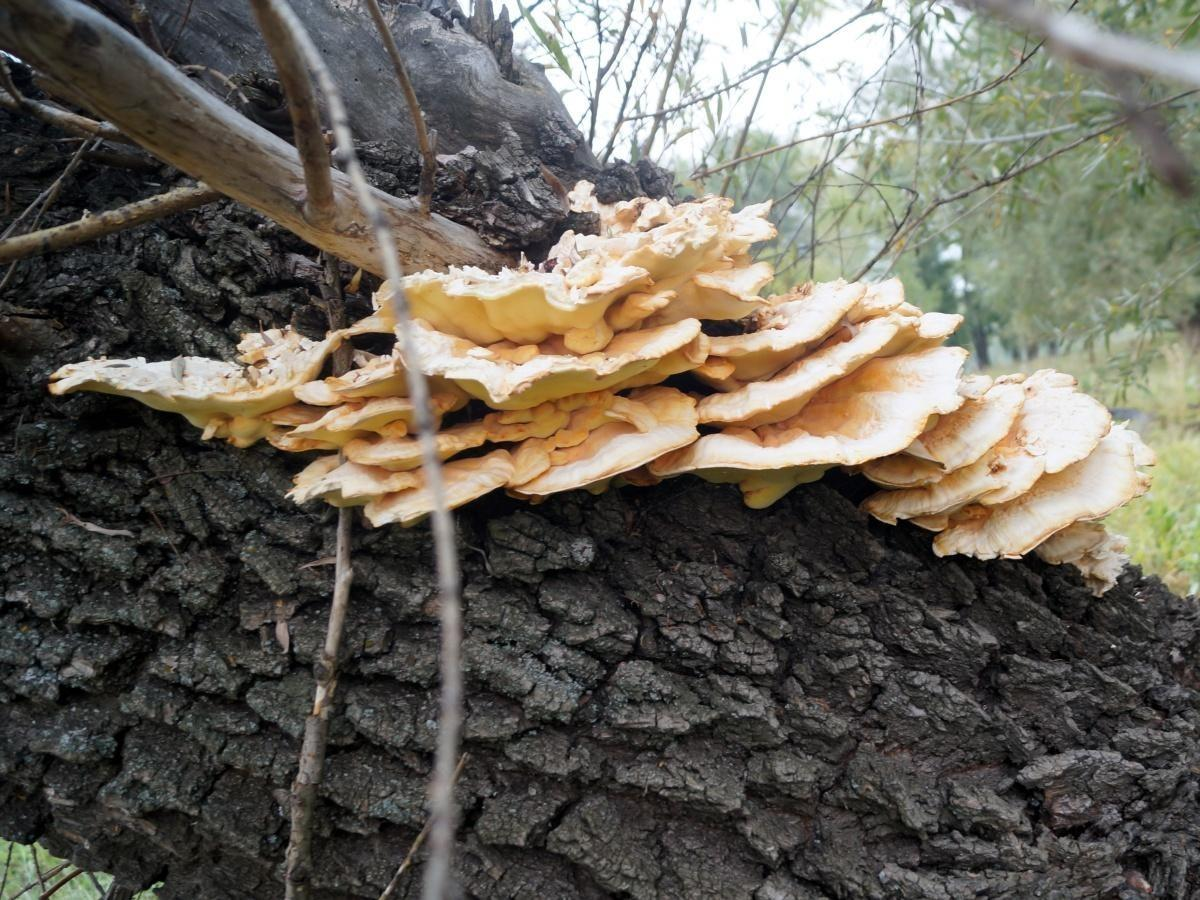Sulphur-yellow tinder fungus: (51, 182, 1152, 592)
